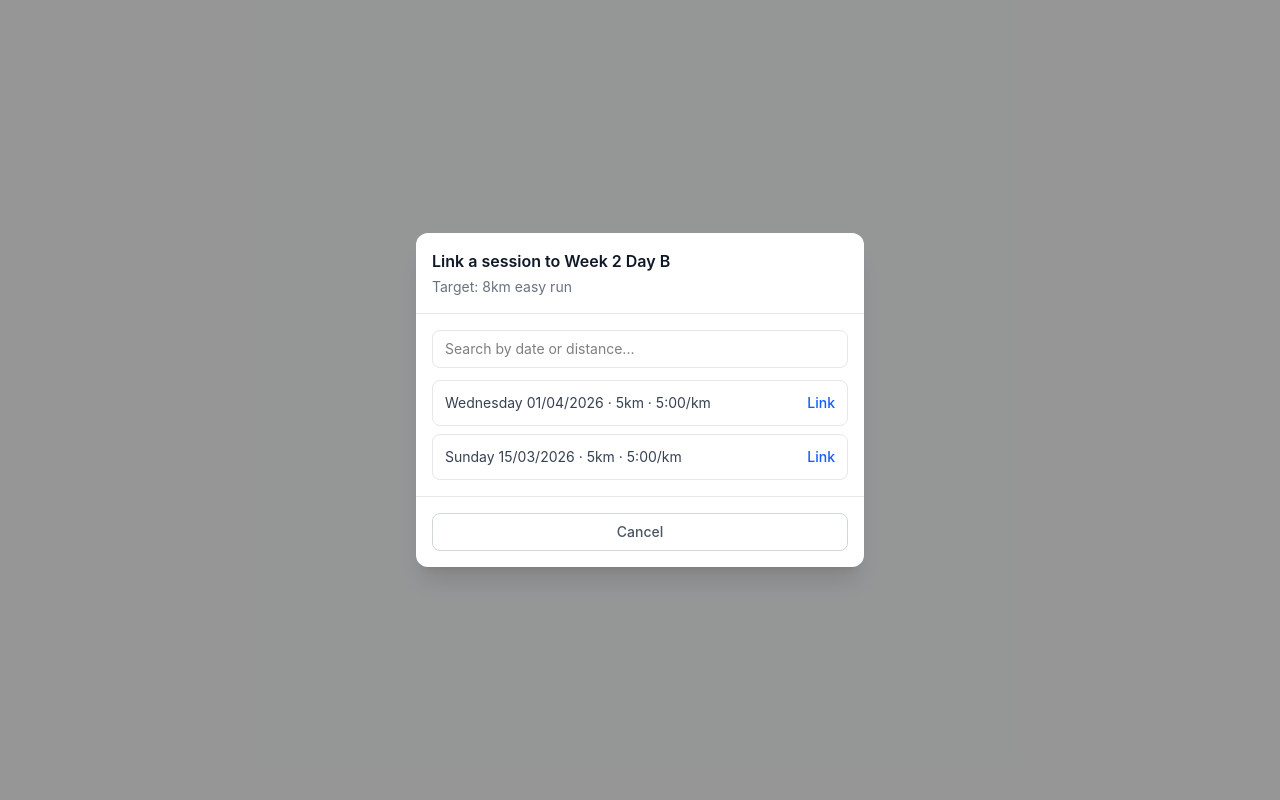
Test: LinkRunModal › shows run count when search is active
Type "wednesday" into the field with placeholder "Search by date or distance...".
click(640, 349); type("wednesday")  # box left=432, top=330, right=848, bottom=368
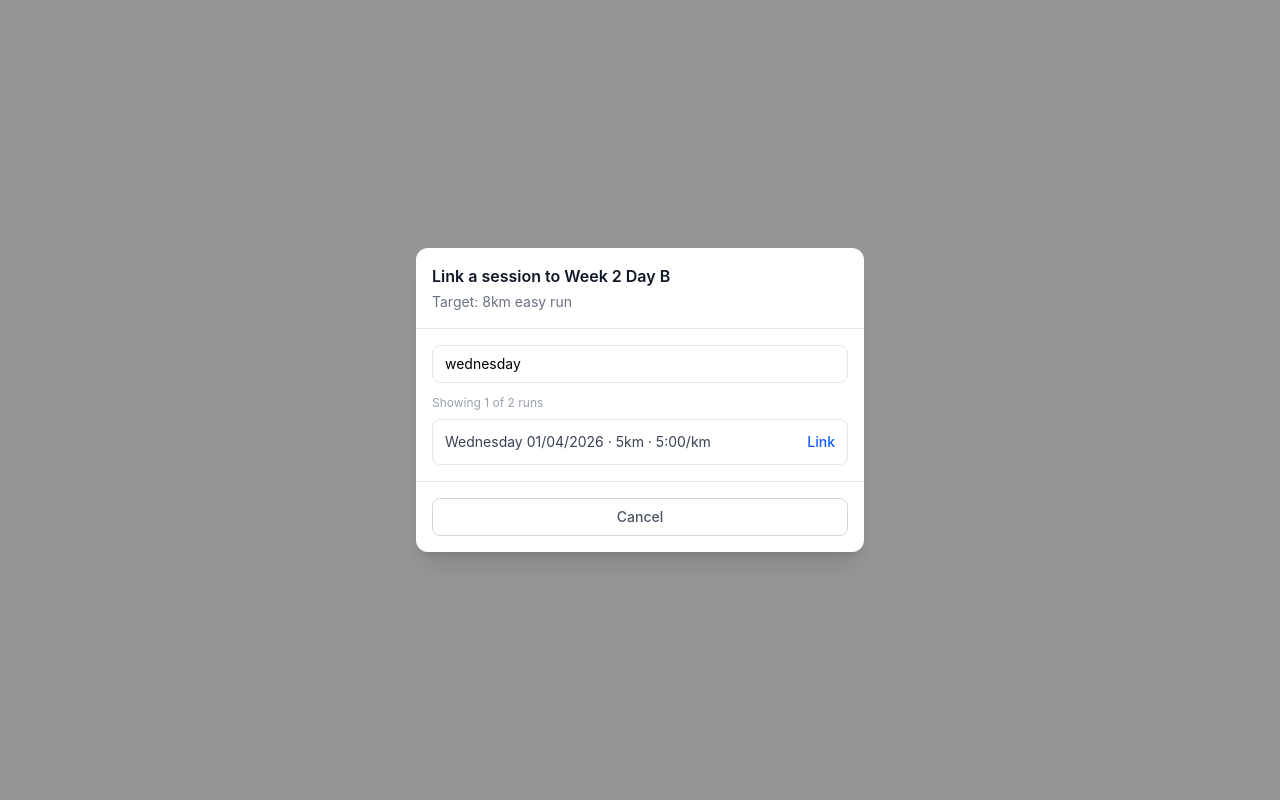
Now the text "Showing 1 of 2 runs" is shown, box left=432, top=395, right=543, bottom=410
